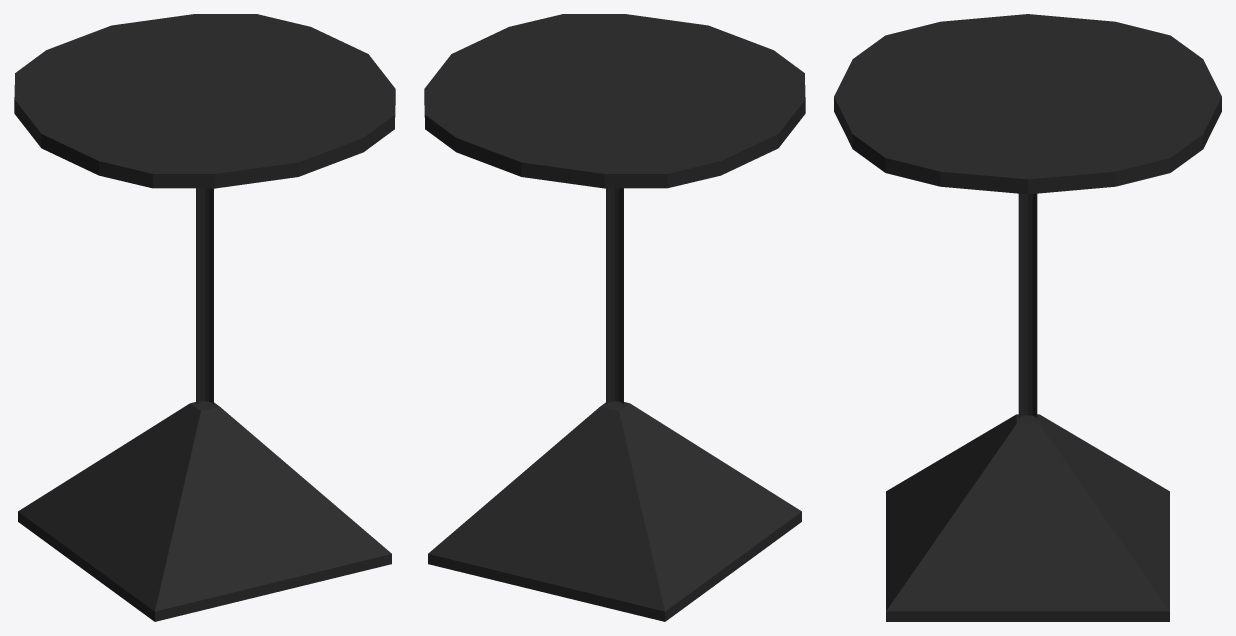
Rendered from Lamp.glb.
3 renders of one model, left to right at view 1: azimuth 30°, elevation 25°; view 2: azimuth 150°, elevation 25°; view 3: azimuth 270°, elevation 25°, orthographic. The views are drawn at different scales.
Parts seen in each view (by area): view 1: Top, Shell, Cylinder; view 2: Top, Shell, Cylinder; view 3: Top, Shell, Cylinder.
Boxes of the visible parts, x1,y1,x2,y2 form: Top: [14, 14, 395, 188]; Shell: [18, 401, 391, 621]; Cylinder: [196, 188, 213, 404]; Top: [424, 14, 805, 188]; Shell: [428, 401, 801, 621]; Cylinder: [606, 188, 623, 404]; Top: [834, 14, 1221, 194]; Shell: [886, 414, 1169, 621]; Cylinder: [1018, 193, 1037, 418].
Bounding box in the file's own units: 0.2357 × 0.3092 × 0.2336.
Materials: 3 (3 with a texture image).
